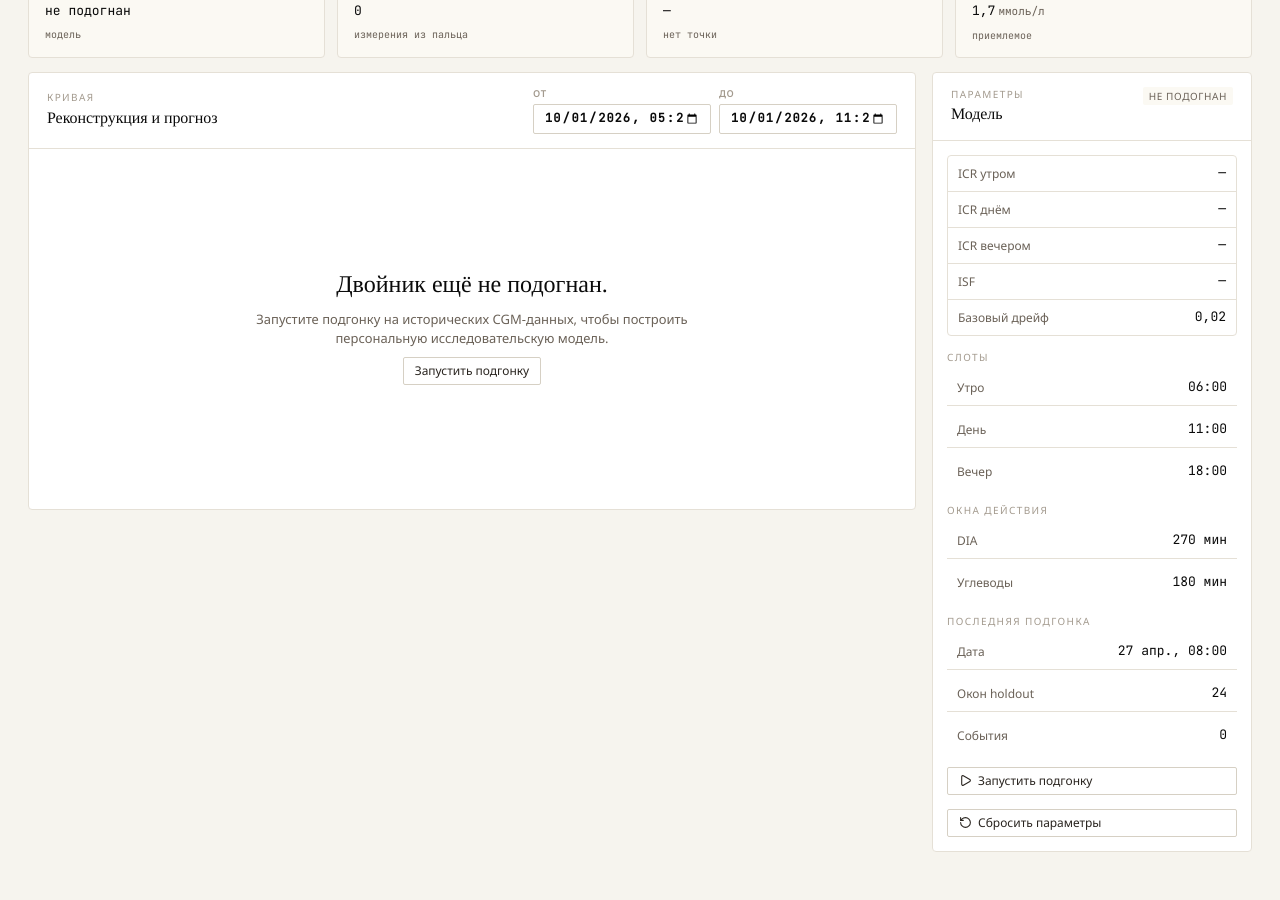
Scenario: TwinPage › opens fit wizard and shows fit result
The width and height of the screenshot is (1280, 900).
(page scrolled)
Click the button "Запустить подгонку" below "События" at [1092, 781], box [947, 767, 1237, 795]
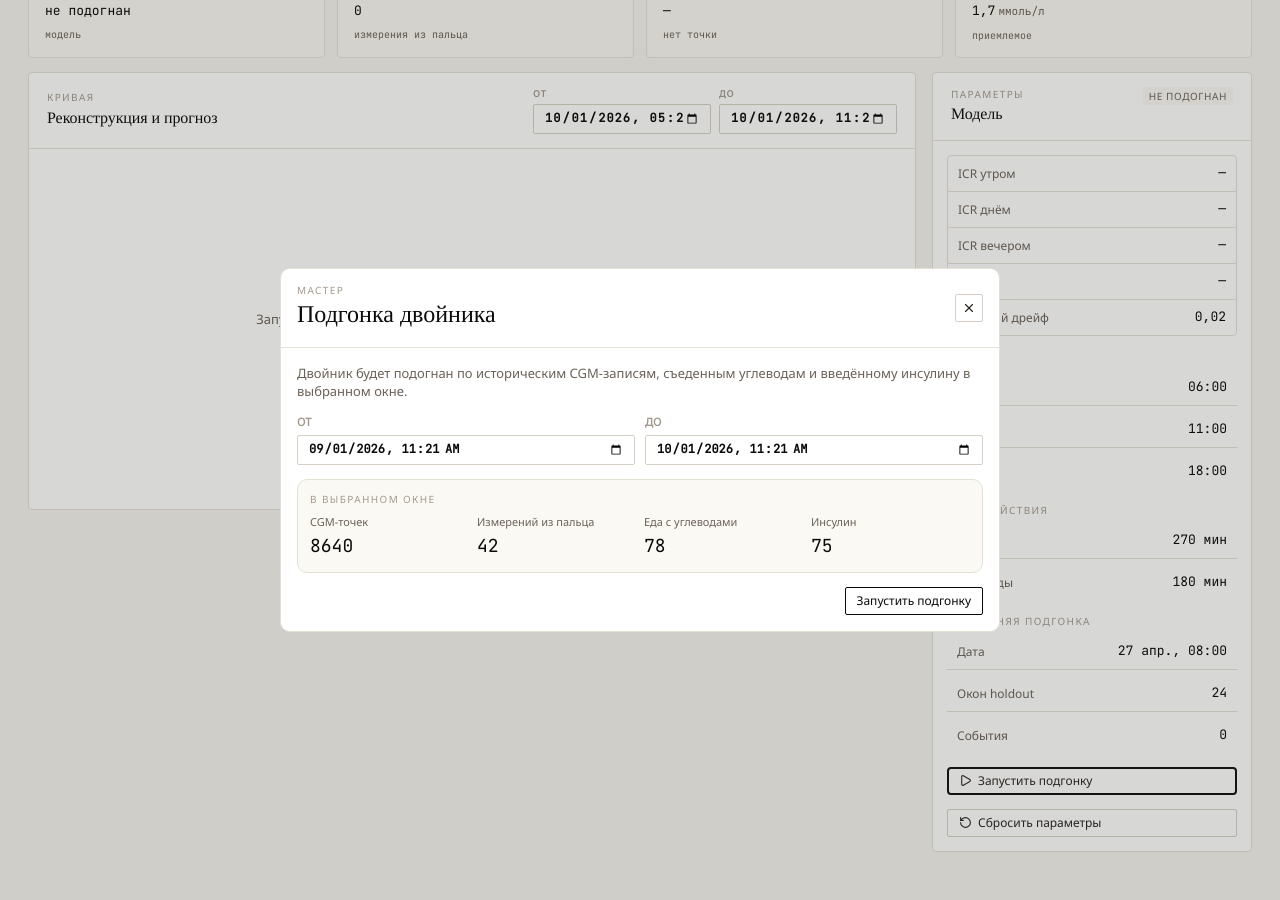
Check: the text "CGM-точек" is shown, box [310, 515, 368, 530]
Click the button "Запустить подгонку" at [914, 601], box [844, 587, 983, 615]
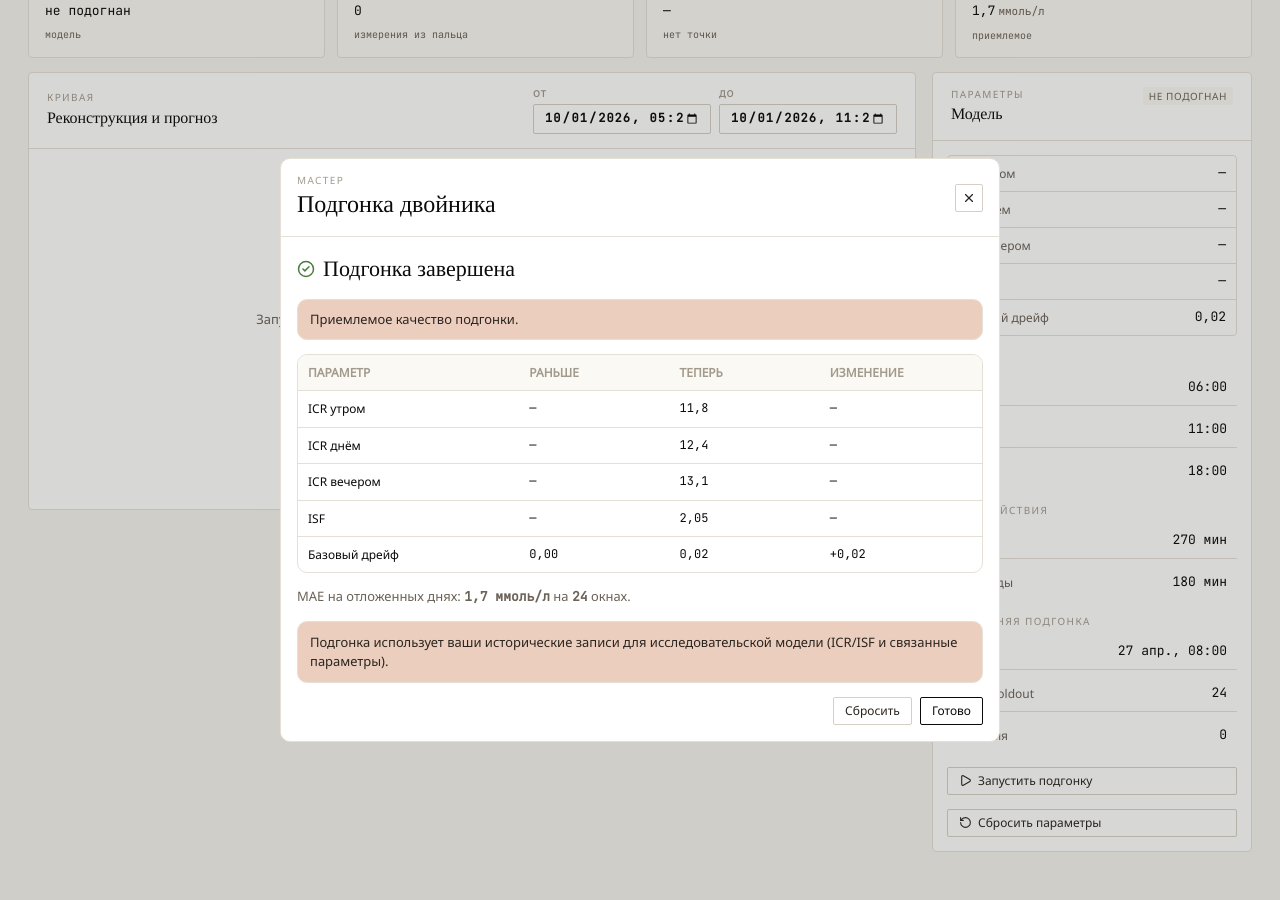
Check: the heading "Подгонка завершена" is shown, box [323, 253, 515, 285]
Check: the text "MAE на отложенных днях: 1,7 ммоль/л на 24 окнах." is shown, box [297, 587, 631, 605]
